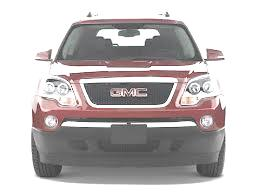GMC: (105, 83, 152, 100)
